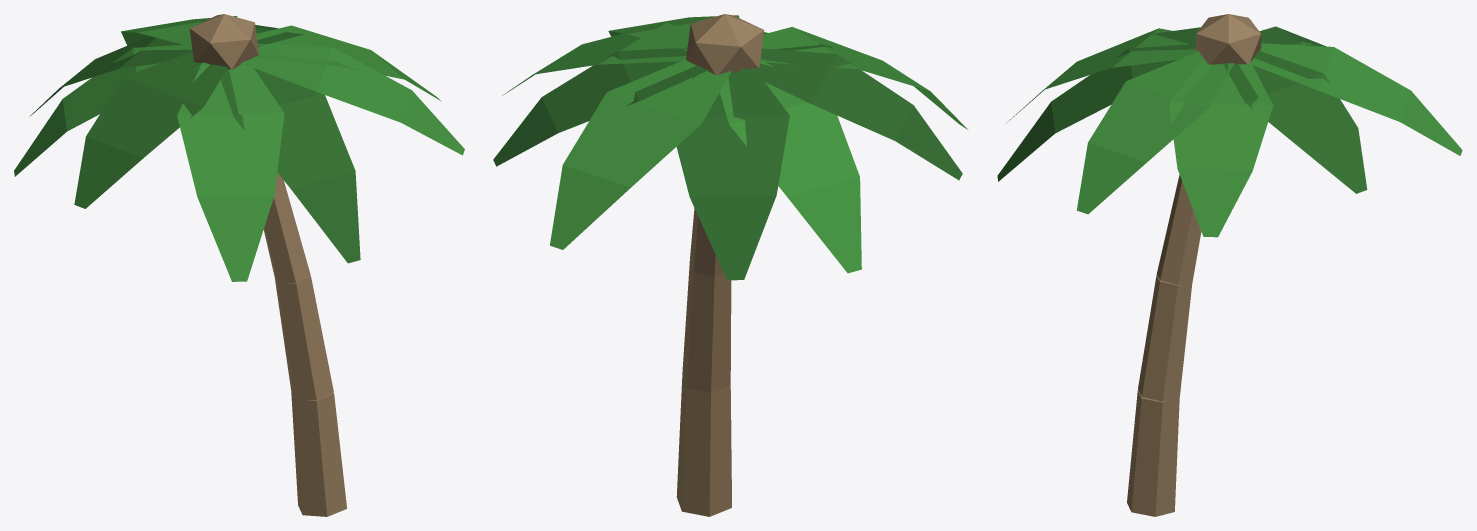
File: palm-v2-summer.glb
3 views of the same model, side by side, from view 1: azimuth 30°, elevation 25°; view 2: azimuth 150°, elevation 25°; view 3: azimuth 270°, elevation 25° (orthographic). The views are drawn at different scales.
Visible parts, largest first — view 1: palm_v2; view 2: palm_v2; view 3: palm_v2.
Boxes of the visible parts, box(x1,y1,x2,y2) form: palm_v2: box(14, 14, 464, 516); palm_v2: box(493, 14, 967, 516); palm_v2: box(997, 14, 1462, 516).
Size of what is drawn, in the model's own units: 4.75 by 5.66 by 5.1.
